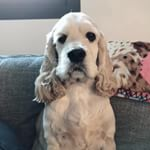puppy: (28, 9, 121, 150)
